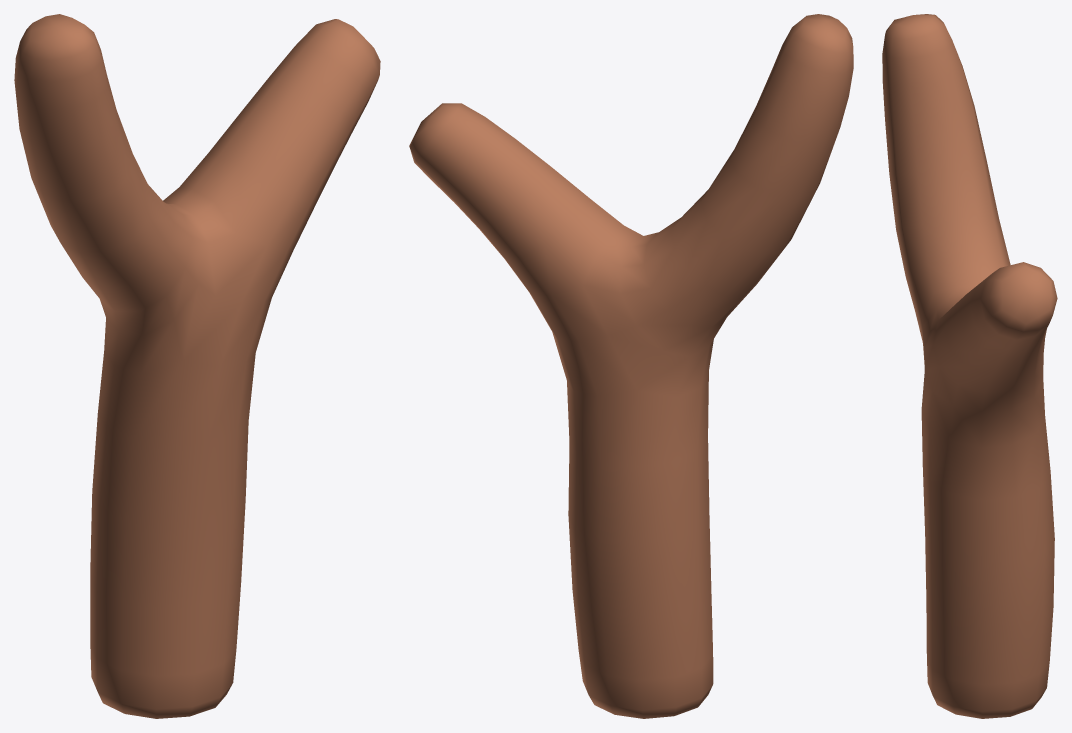
File: Tree_Btm_B_02.fbx
3 renders of one model, left to right at view 1: azimuth 30°, elevation 25°; view 2: azimuth 150°, elevation 25°; view 3: azimuth 270°, elevation 25°, orthographic. The views are drawn at different scales.
Parts seen in each view (by area): view 1: Tree_Btm_B_02_LOD0; view 2: Tree_Btm_B_02_LOD0; view 3: Tree_Btm_B_02_LOD0.
Boxes of the visible parts, left/top/right/bottom form: Tree_Btm_B_02_LOD0: left=14, top=14, right=380, bottom=718; Tree_Btm_B_02_LOD0: left=409, top=14, right=853, bottom=718; Tree_Btm_B_02_LOD0: left=882, top=14, right=1057, bottom=718.
Size of what is drawn, in the model's own units: 353 by 609 by 154.
